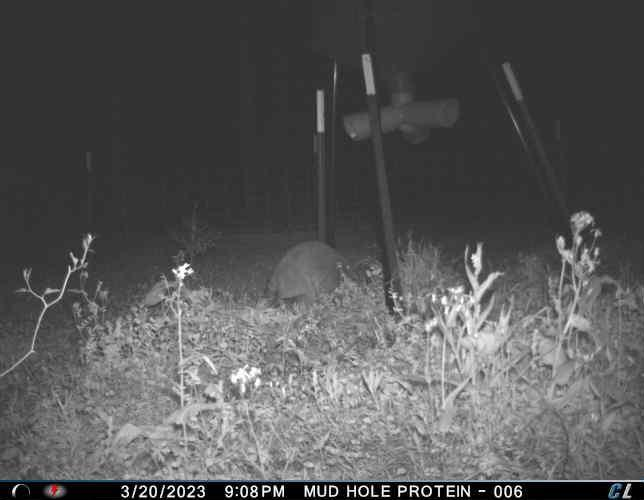Raccoon: (261, 240, 367, 309)
